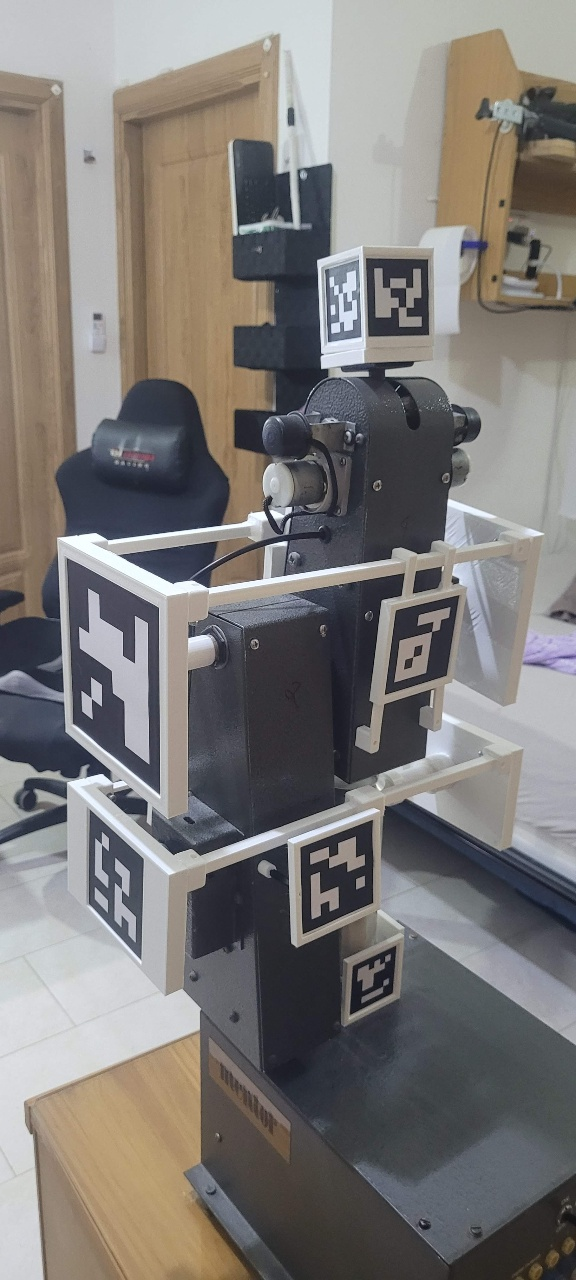Robot: (55, 246, 548, 1075)
